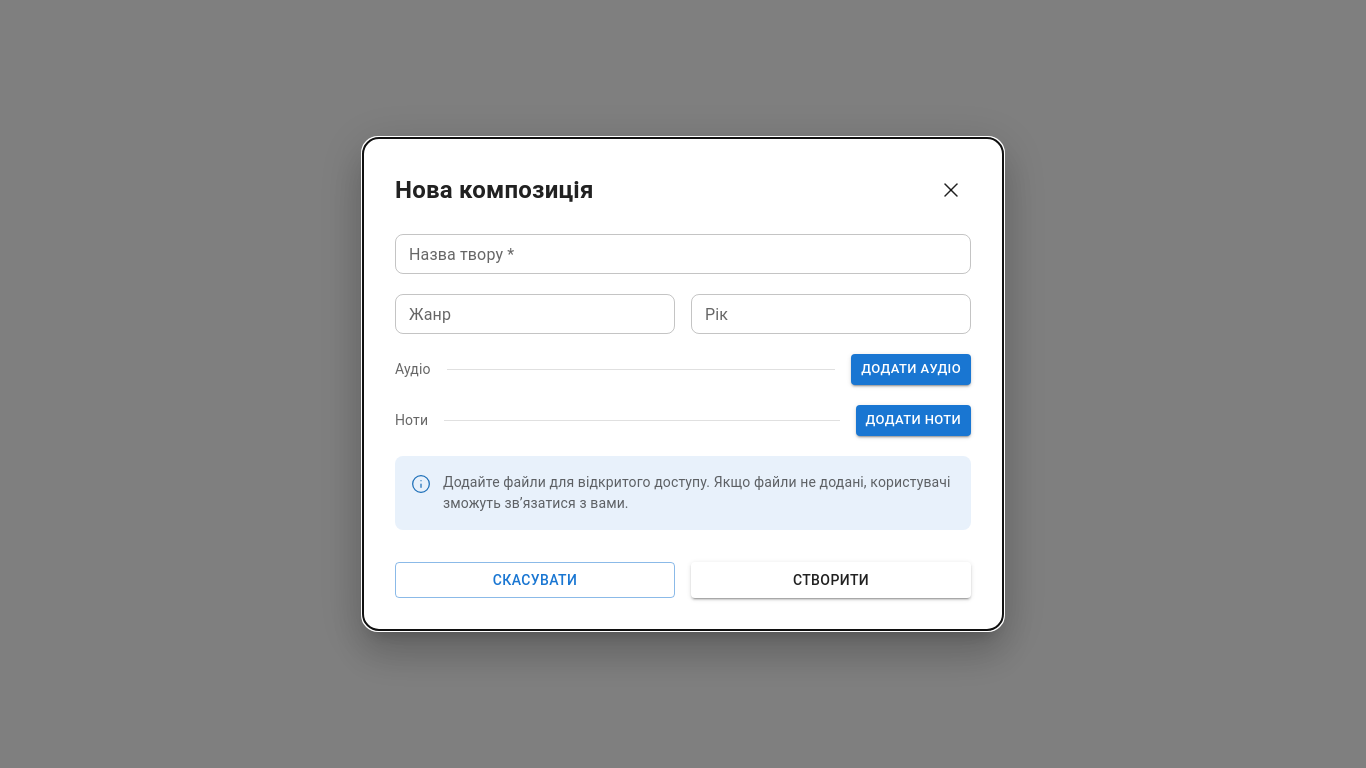
Test: CompositionModal › blocks submit and shows an error when the title is empty
This screenshot has width=1366, height=768.
Click the button "Створити" at (831, 580), box [691,562,971,598]
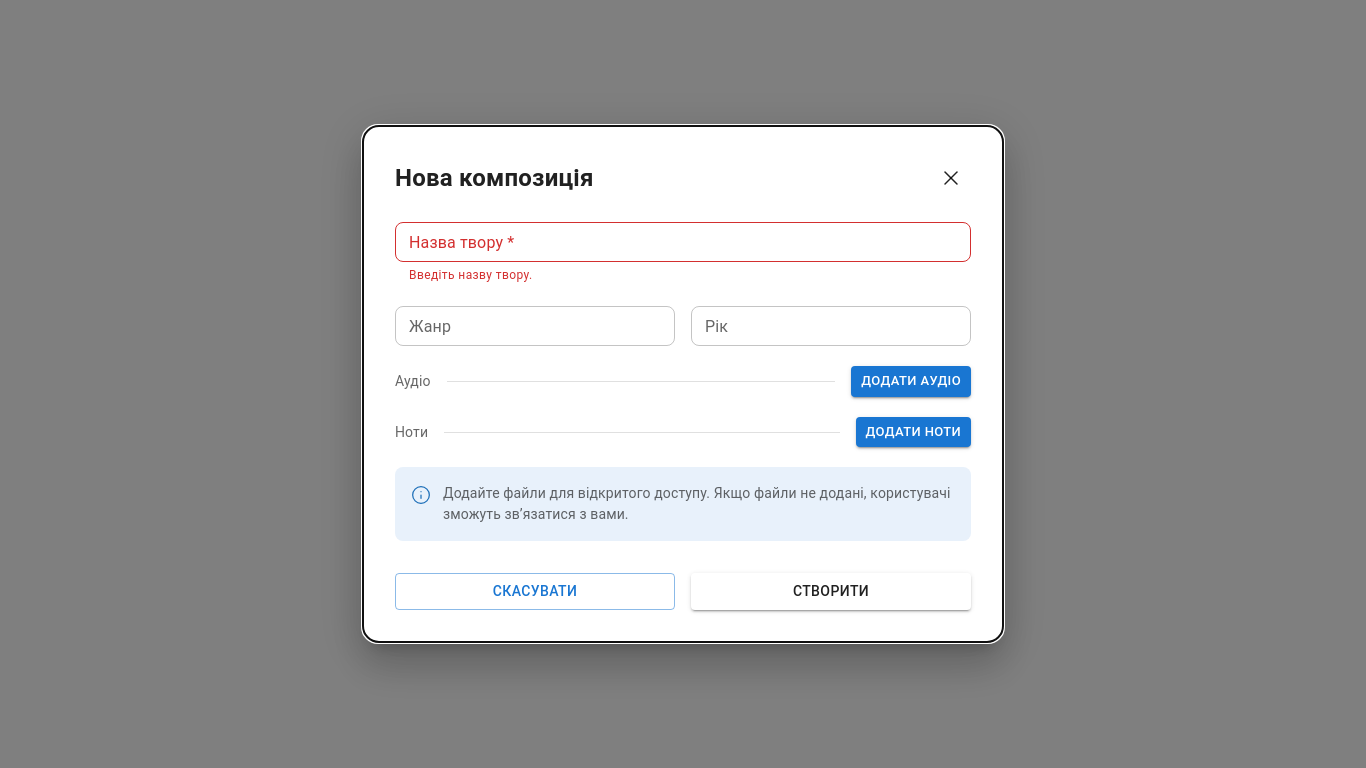
expect the text "Введіть назву твору." is shown: met, box [409,268,532,282]
